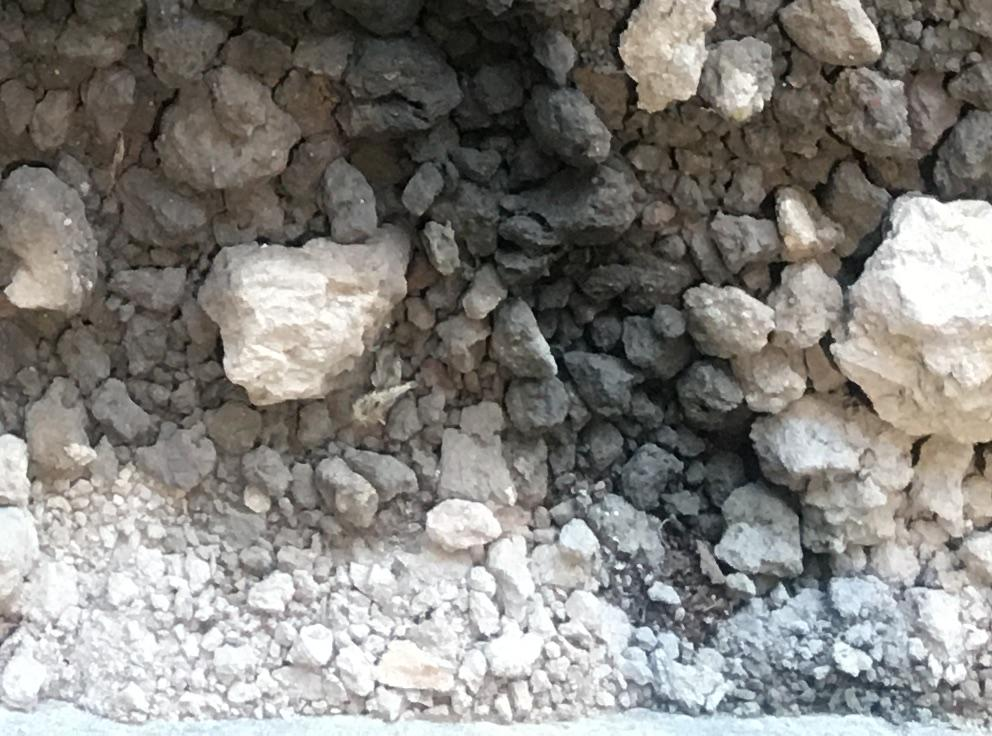block: (833, 193, 992, 446), (198, 224, 409, 405), (1, 161, 92, 326)
